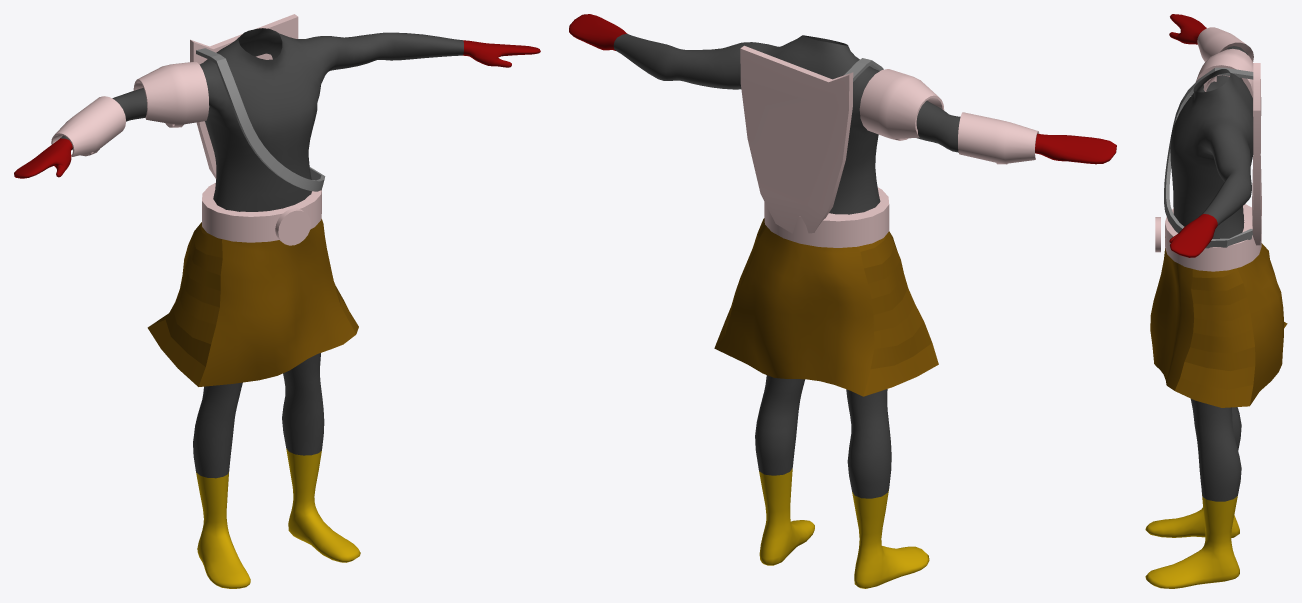
The model's file is Knight.fbx.
3 views of the same model, side by side, from view 1: azimuth 30°, elevation 25°; view 2: azimuth 150°, elevation 25°; view 3: azimuth 270°, elevation 25° (orthographic). The views are drawn at different scales.
Visible parts, largest first — view 1: Human_806polys:Mesh1; view 2: Human_806polys:Mesh1; view 3: Human_806polys:Mesh1.
Boxes of the visible parts, x1=… form: Human_806polys:Mesh1: x1=14, y1=14, x2=540, y2=588; Human_806polys:Mesh1: x1=569, y1=14, x2=1116, y2=588; Human_806polys:Mesh1: x1=1145, y1=14, x2=1287, y2=588.
Size of the model in its own units: 55.66 by 52.68 by 14.03.
